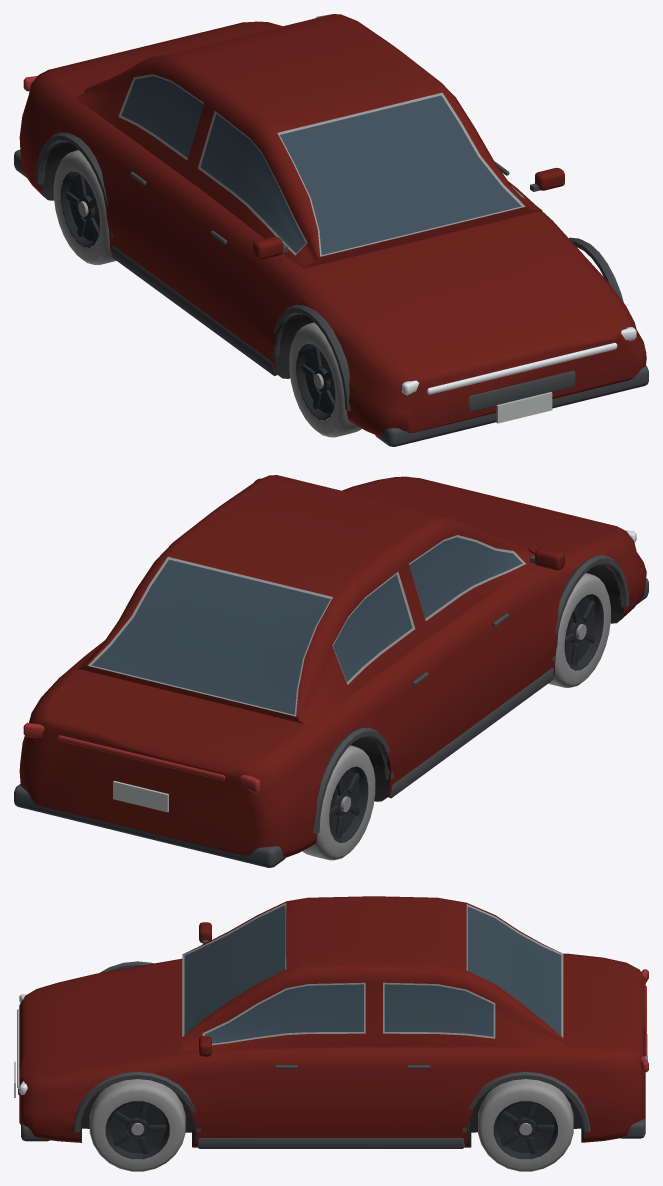
File: Car_Sedan_Red.fbx
3 renders of one model, top to bottom at view 1: azimuth 30°, elevation 25°; view 2: azimuth 150°, elevation 25°; view 3: azimuth 270°, elevation 25°, orthographic. The views are drawn at different scales.
Parts seen in each view (by area): view 1: Car_Sedan_Red_LOD0; view 2: Car_Sedan_Red_LOD0; view 3: Car_Sedan_Red_LOD0.
Part boxes in pixels (<box>): Car_Sedan_Red_LOD0: <box>14,14,648,446</box>; Car_Sedan_Red_LOD0: <box>14,475,648,867</box>; Car_Sedan_Red_LOD0: <box>14,896,648,1171</box>.
Size of what is drawn, in the model's own units: 2.03 by 1.45 by 4.4.
